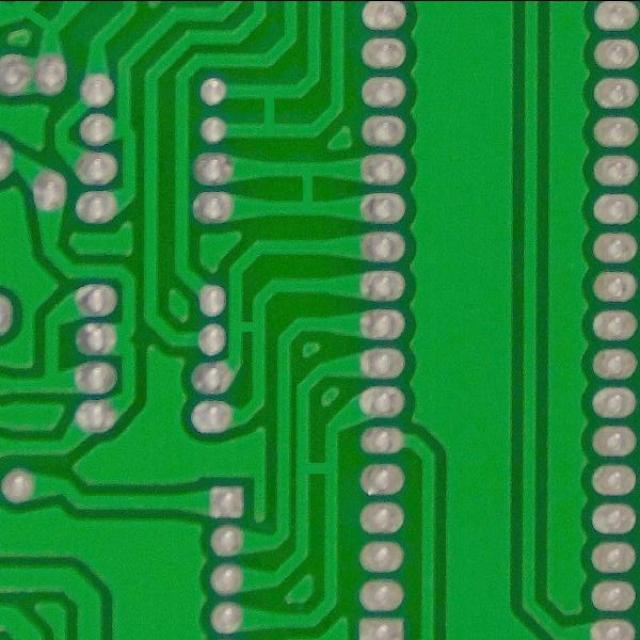Short_Circuit: (282, 154, 332, 224), (245, 75, 292, 146), (289, 446, 348, 491), (7, 0, 67, 38), (224, 310, 272, 346)
